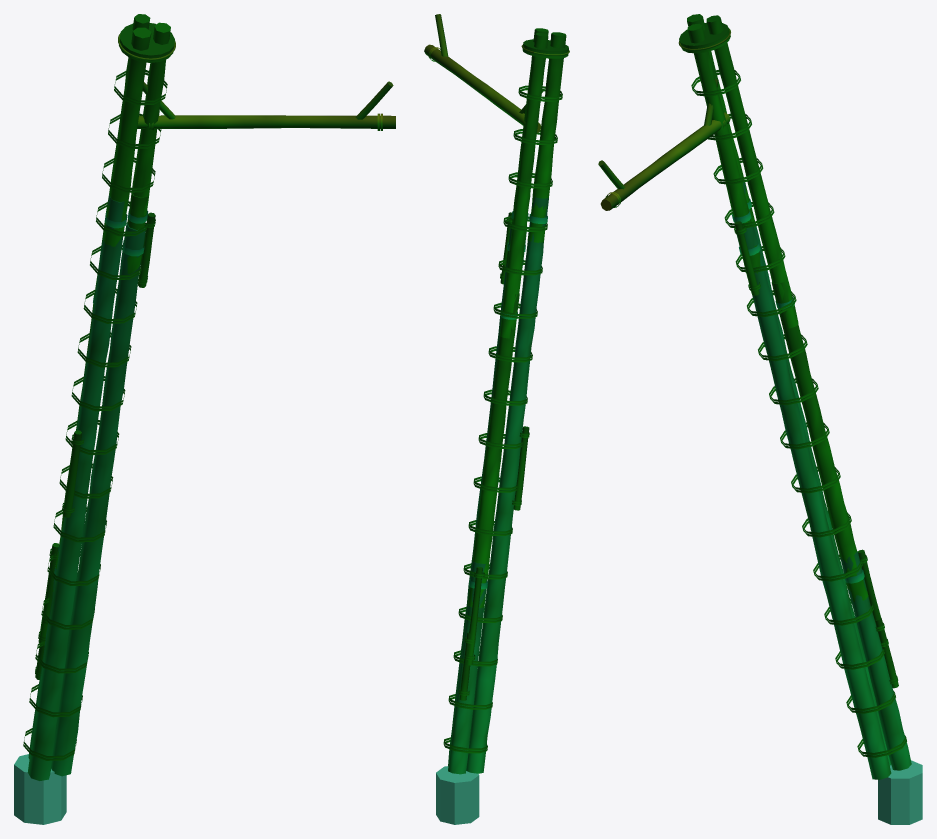
Rendered from gantry_leg.glb.
3 views of the same model, side by side, from view 1: azimuth 30°, elevation 25°; view 2: azimuth 150°, elevation 25°; view 3: azimuth 270°, elevation 25° (orthographic). The views are drawn at different scales.
Parts seen in each view (by area): view 1: gantry_leg; view 2: gantry_leg; view 3: gantry_leg.
Part boxes in pixels (bbox=[...]): gantry_leg: bbox=[14, 14, 395, 824]; gantry_leg: bbox=[424, 14, 569, 824]; gantry_leg: bbox=[598, 14, 922, 824].
Size of what is drawn, in the model's own units: 16.69 by 61.82 by 22.77.
